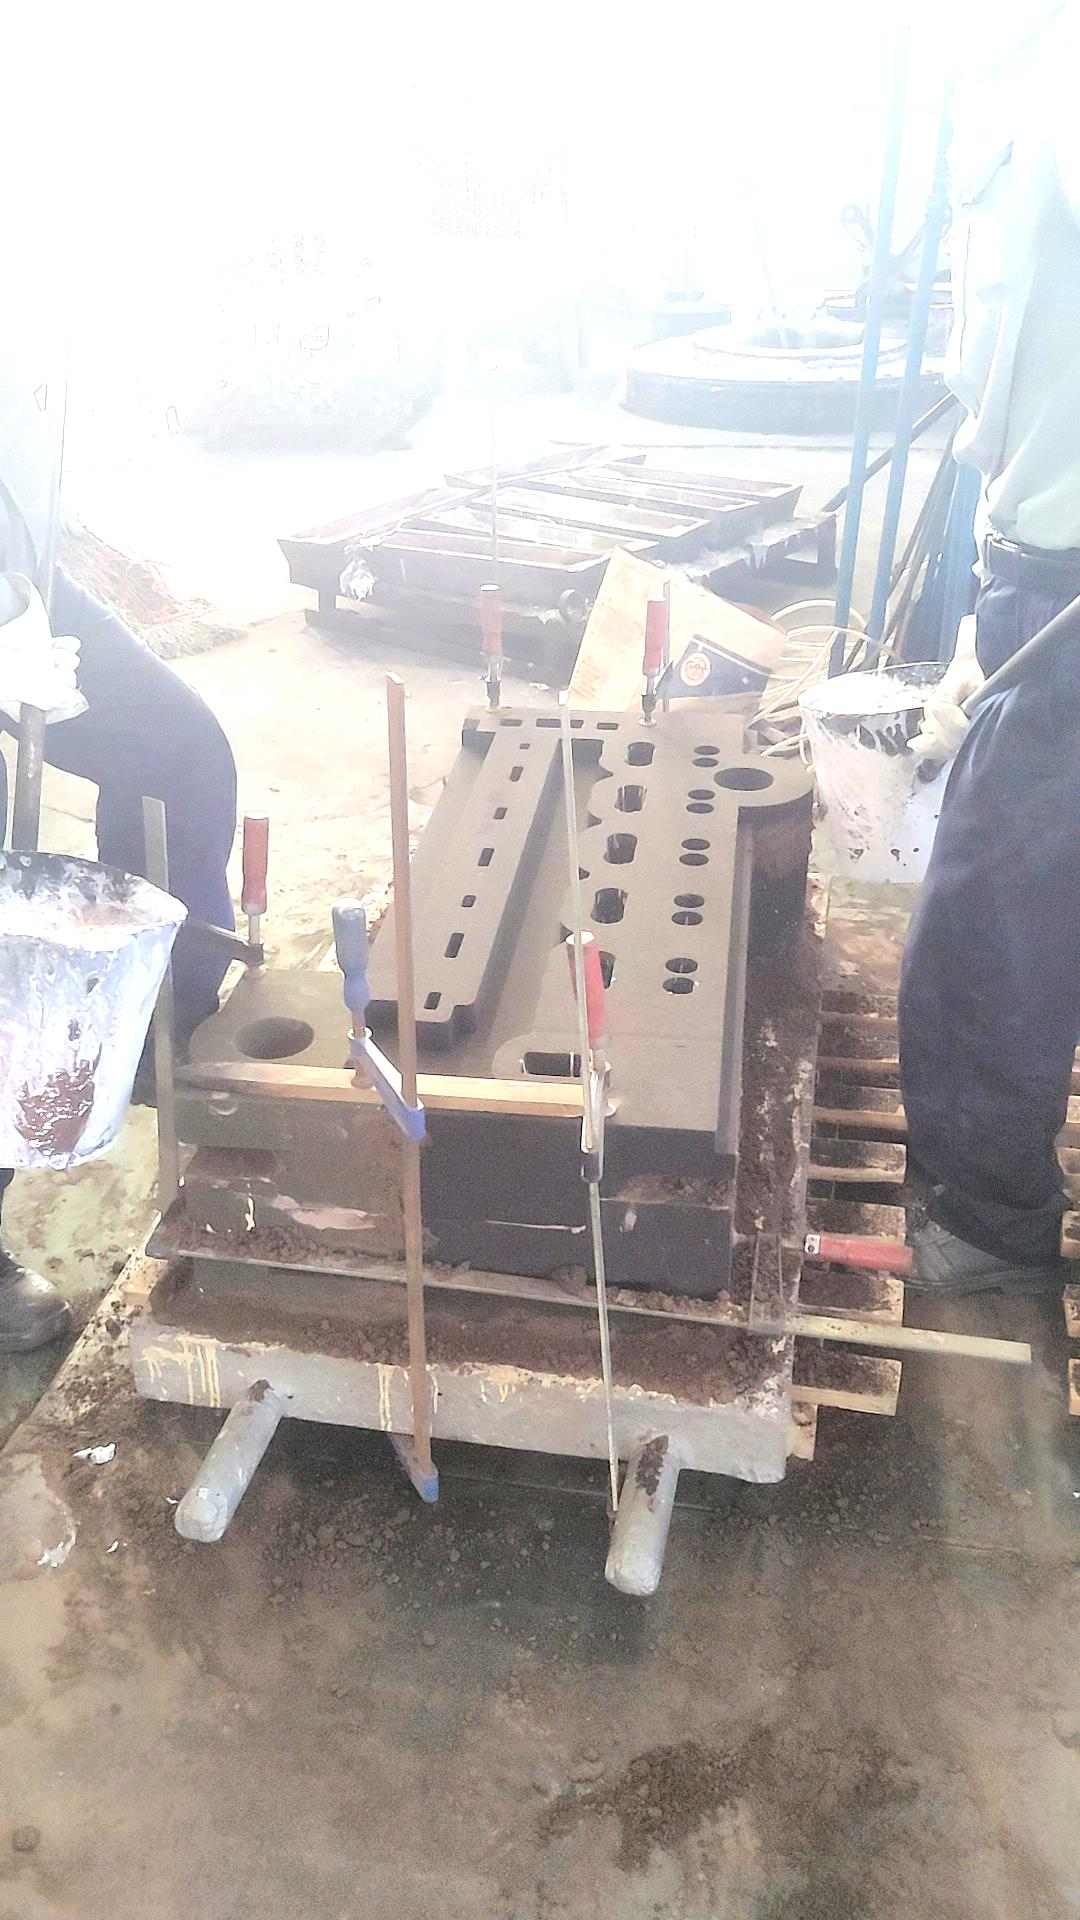pouring hole: (231, 1015, 315, 1060), (713, 767, 775, 791)
